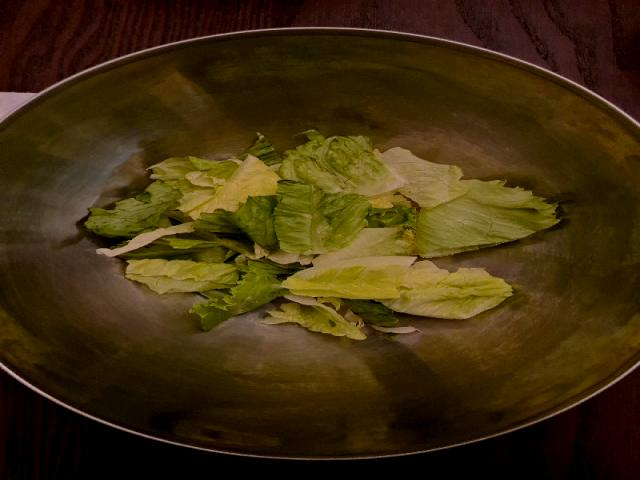kichen waste: (86, 130, 558, 338)
